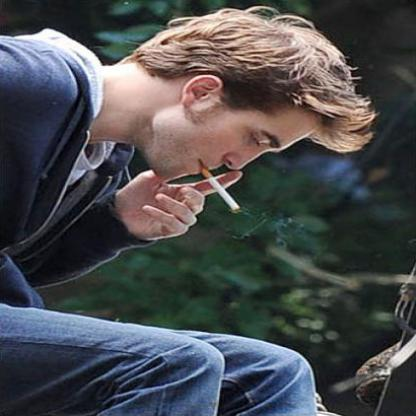cigarette: (198, 164, 242, 214)
person: (0, 7, 358, 280)
